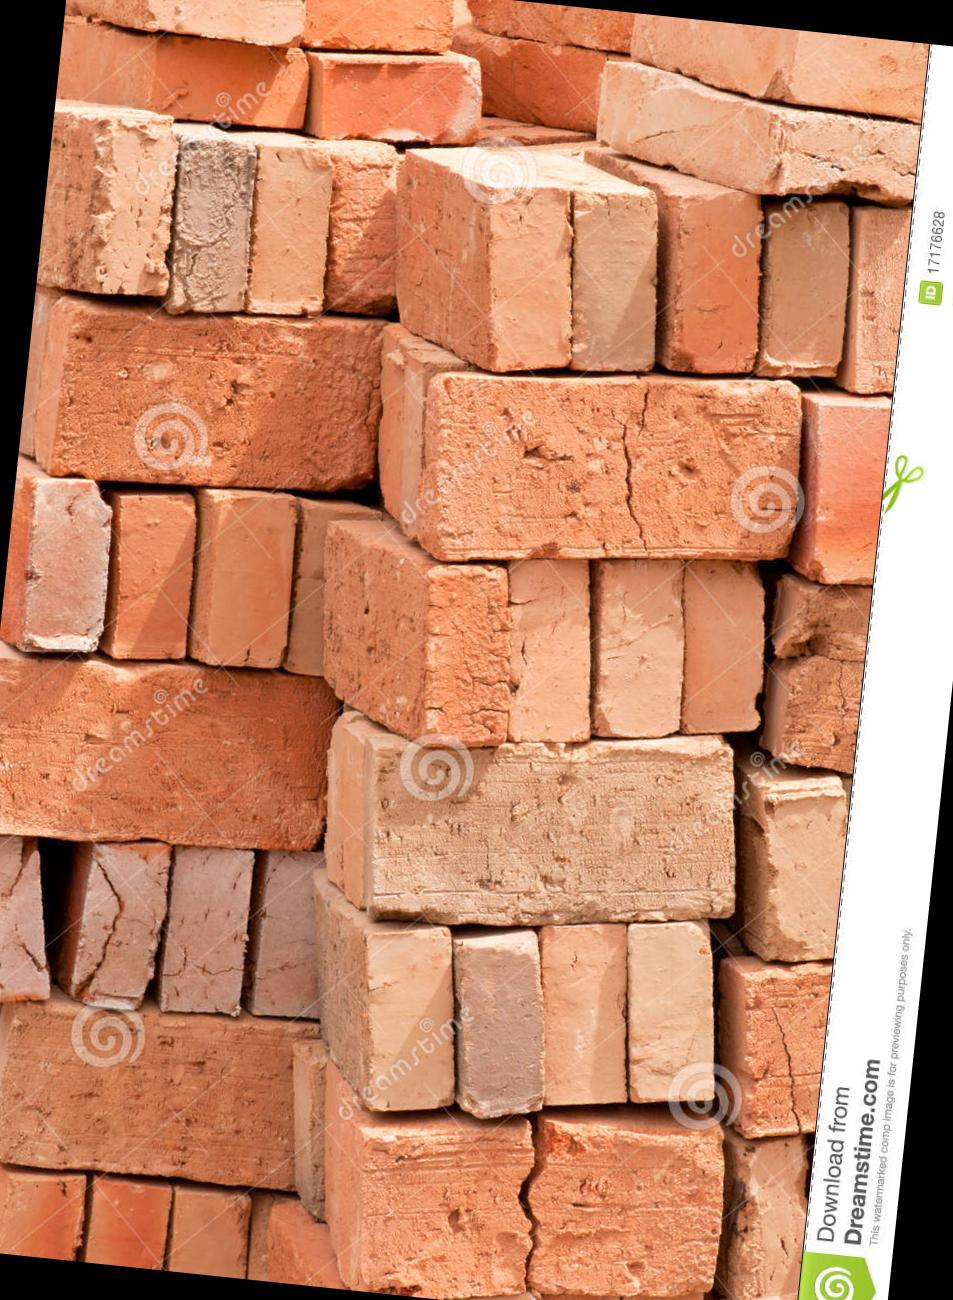brick: (422, 344, 809, 595), (358, 705, 749, 952), (346, 1100, 729, 1300), (0, 644, 339, 865), (48, 291, 387, 509), (0, 996, 319, 1195), (436, 922, 559, 1123), (349, 918, 470, 1118), (524, 915, 645, 1112), (610, 914, 731, 1109), (409, 559, 526, 755), (471, 182, 588, 377), (556, 183, 671, 377), (493, 554, 607, 748), (660, 185, 772, 378), (585, 553, 695, 743), (77, 111, 186, 302), (753, 196, 857, 383), (669, 558, 773, 739), (732, 960, 833, 1146), (318, 44, 486, 154), (202, 489, 302, 672), (750, 780, 848, 966), (19, 474, 118, 657), (163, 135, 259, 321), (241, 141, 339, 319), (780, 584, 871, 775), (71, 836, 171, 1008), (105, 488, 201, 664), (157, 845, 254, 1018), (802, 399, 890, 586), (716, 1131, 813, 1300), (318, 139, 411, 314), (151, 33, 310, 130), (769, 108, 921, 208), (251, 847, 337, 1022), (841, 205, 911, 396), (786, 30, 930, 121), (0, 833, 64, 1012), (303, 0, 458, 61), (0, 1168, 89, 1262), (144, 0, 311, 49), (85, 1179, 171, 1271), (168, 1189, 252, 1279)
